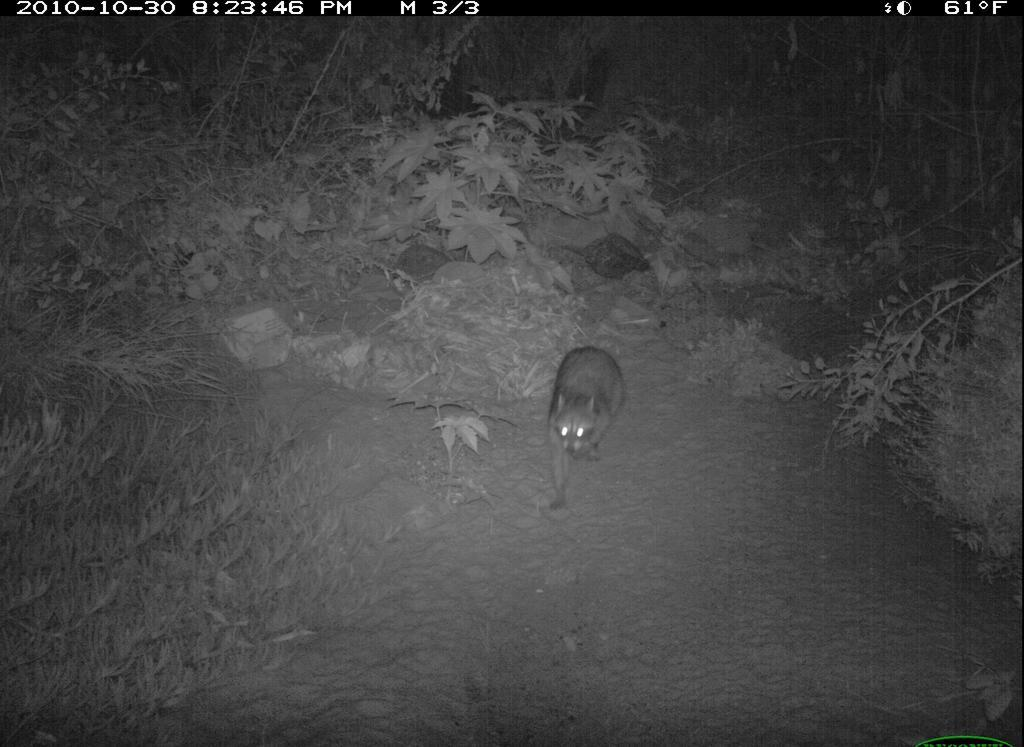raccoon: (536, 326, 633, 519)
